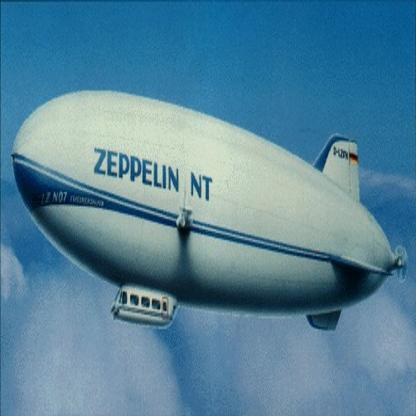Airship: (14, 89, 410, 342)
